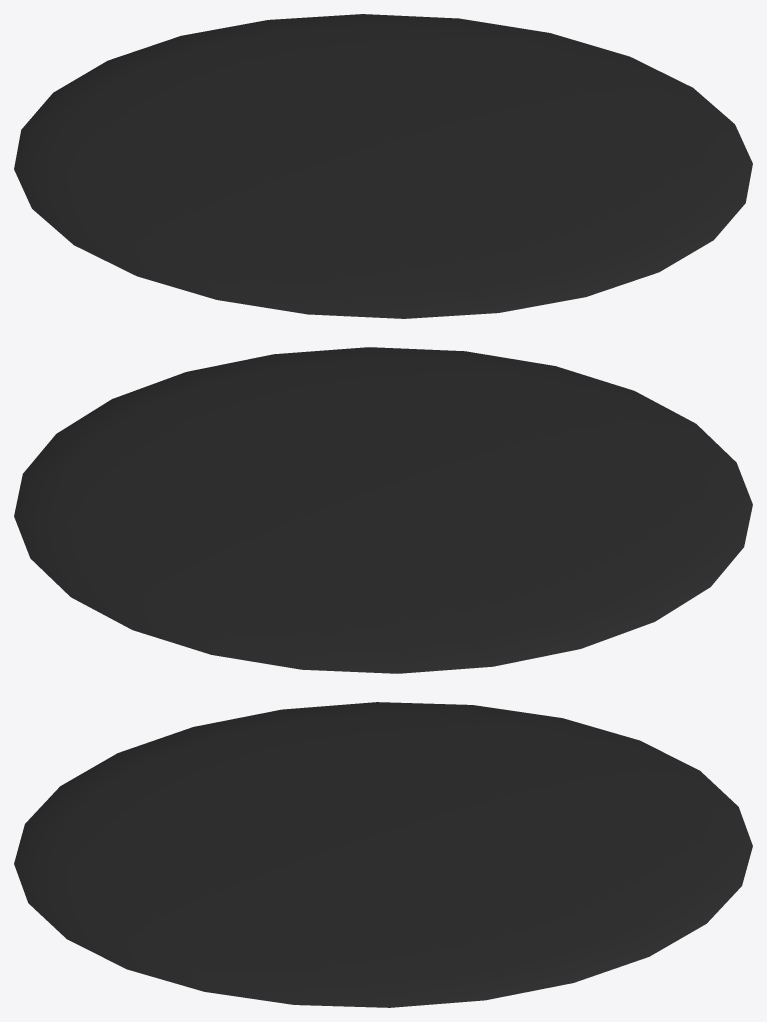
File: alfombra.fbx
3 views of the same model, one above another, from view 1: azimuth 30°, elevation 25°; view 2: azimuth 150°, elevation 25°; view 3: azimuth 270°, elevation 25° (orthographic). The views are drawn at different scales.
Visible parts, largest first — view 1: Alfombra; view 2: Alfombra; view 3: Alfombra.
Boxes of the visible parts, x1,y1,x2,y2 form: Alfombra: [14, 14, 752, 318]; Alfombra: [14, 347, 752, 673]; Alfombra: [14, 702, 752, 1007].
Bounding box in the file's own units: 400 × 20.03 × 409.
Materials: 1 (1 with a texture image).
